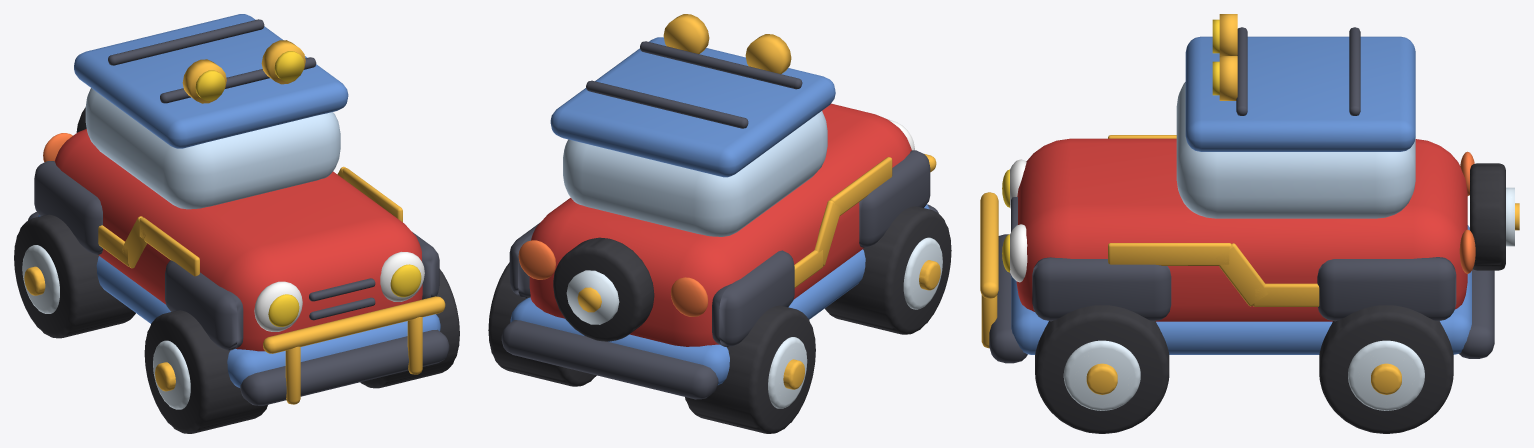
Rendered from toy-brute.glb.
3 renders of one model, left to right at view 1: azimuth 30°, elevation 25°; view 2: azimuth 150°, elevation 25°; view 3: azimuth 270°, elevation 25°, orthographic. The views are drawn at different scales.
Visible parts, largest first — view 1: body, wheel-back-right, wheel-front-right, wheel-front-left; view 2: body, wheel-back-right, wheel-front-right, wheel-back-left; view 3: body, wheel-back-left, wheel-front-left.
Boxes of the visible parts, x1=… form: body: x1=28, y1=14, x2=449, y2=405; wheel-back-right: x1=14, y1=214, x2=135, y2=338; wheel-front-right: x1=144, y1=310, x2=267, y2=433; wheel-front-left: x1=360, y1=269, x2=459, y2=388; body: x1=501, y1=14, x2=938, y2=399; wheel-back-right: x1=685, y1=305, x2=815, y2=433; wheel-front-right: x1=825, y1=206, x2=951, y2=334; wheel-back-left: x1=488, y1=262, x2=596, y2=386; body: x1=980, y1=14, x2=1519, y2=363; wheel-back-left: x1=1319, y1=305, x2=1453, y2=433; wheel-front-left: x1=1035, y1=305, x2=1169, y2=433.
Size of the model in its own units: 1.58 by 1.62 by 2.39.
1 material, 1 textured.
